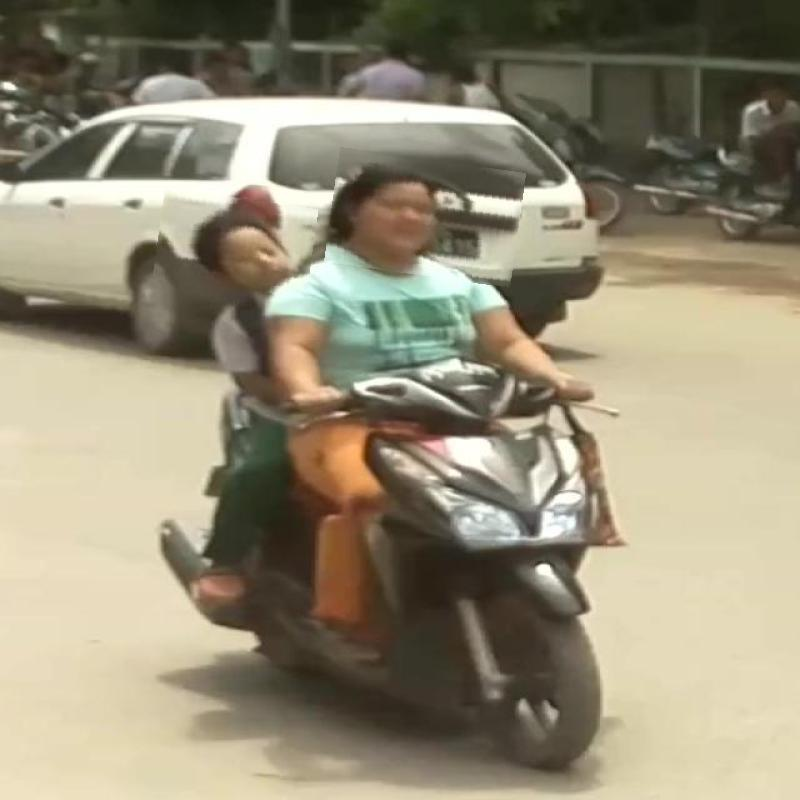nohelmet: (328, 154, 522, 282), (155, 193, 316, 293)
